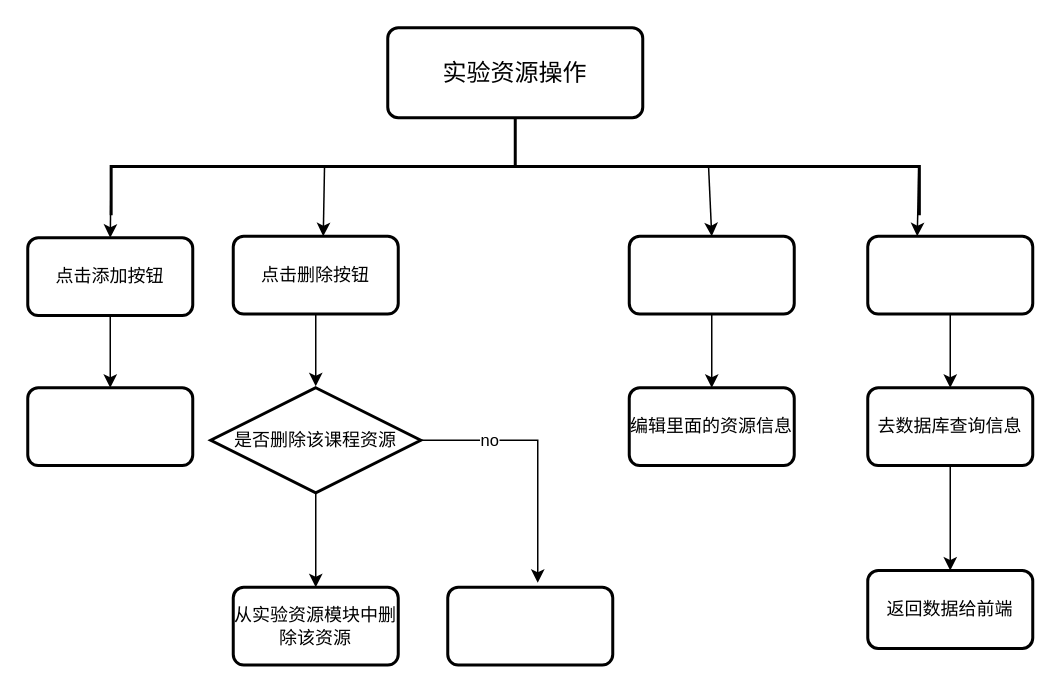
The diagram is 1059 pixels wide and 692 high, and some of its shapes have lost their labels. The centre of each missing label's shape, as x and y in pixels:
没有执行删除操作: the point at 530,625
添加课程资源: the point at 110,426
点击搜索按钮: the point at 950,274
点击编辑按钮: the point at 711,274
